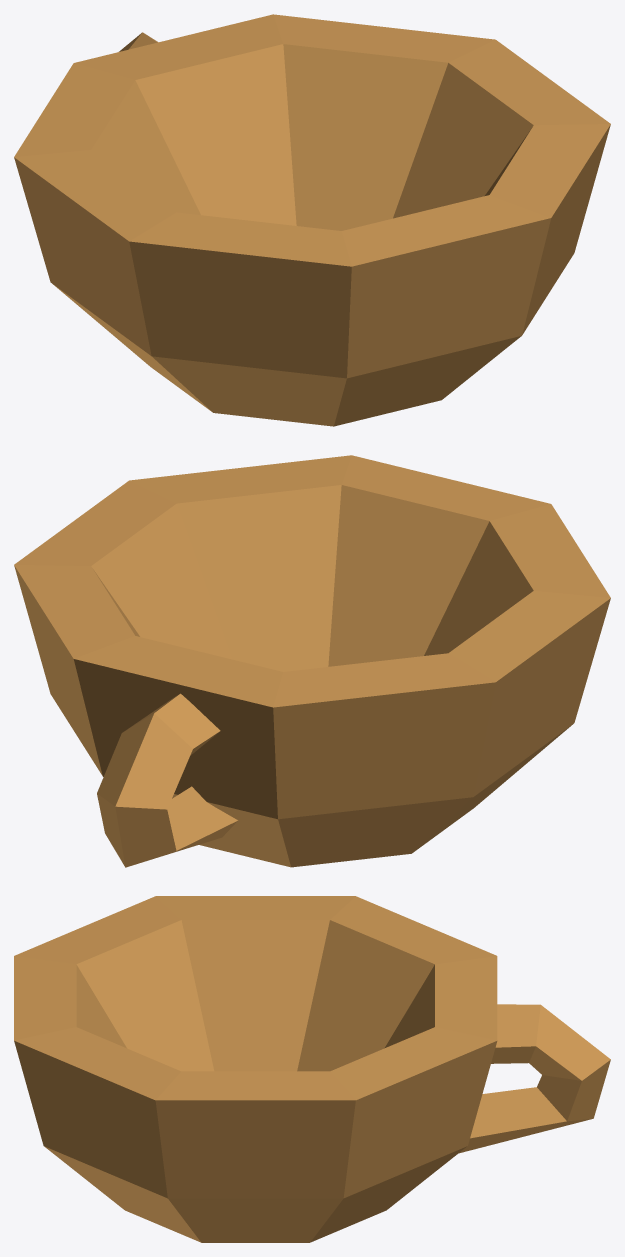
The model's file is SM_Prop_Gold_Cup_01.glb.
3 views of the same model, one above another, from view 1: azimuth 30°, elevation 25°; view 2: azimuth 150°, elevation 25°; view 3: azimuth 270°, elevation 25° (orthographic). The views are drawn at different scales.
Visible parts, largest first — view 1: SM_Prop_Gold_Cup_01; view 2: SM_Prop_Gold_Cup_01; view 3: SM_Prop_Gold_Cup_01.
Part boxes in pixels (bbox=[...]): SM_Prop_Gold_Cup_01: bbox=[14, 14, 610, 426]; SM_Prop_Gold_Cup_01: bbox=[14, 455, 610, 867]; SM_Prop_Gold_Cup_01: bbox=[14, 896, 610, 1242].
Size of the model in its own units: 0.2144 by 0.0939 by 0.2648.
Materials: 1 (1 with a texture image).
